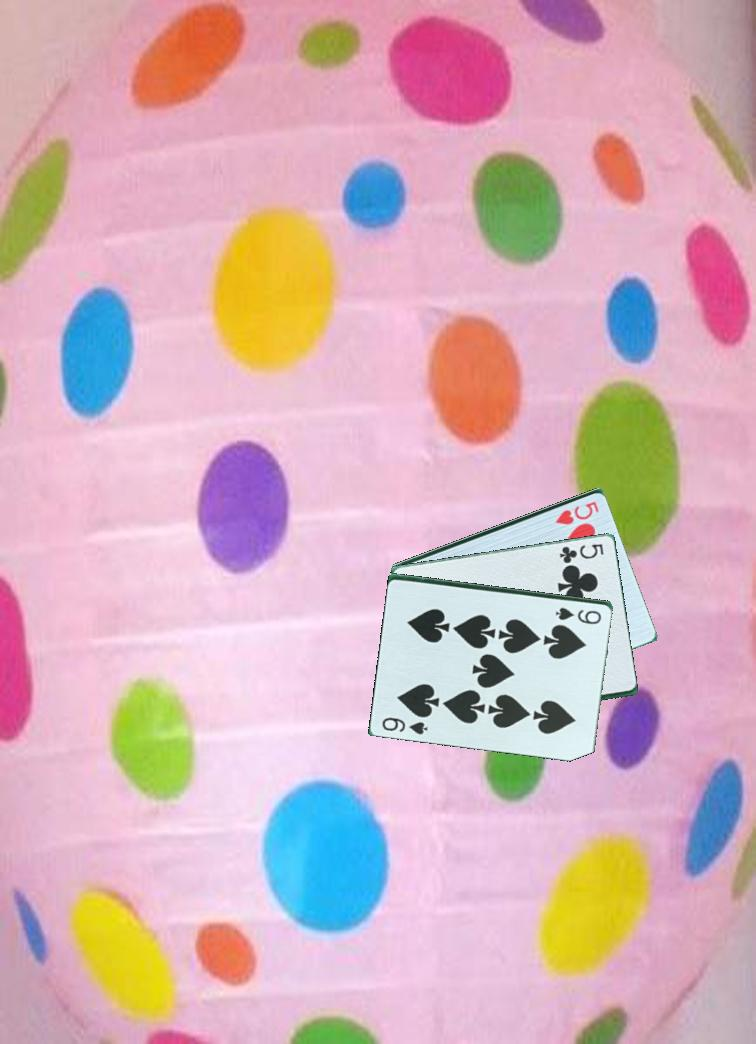5c: (556, 540, 606, 566)
5h: (552, 497, 602, 527)
9s: (379, 713, 431, 737), (552, 603, 604, 626)
